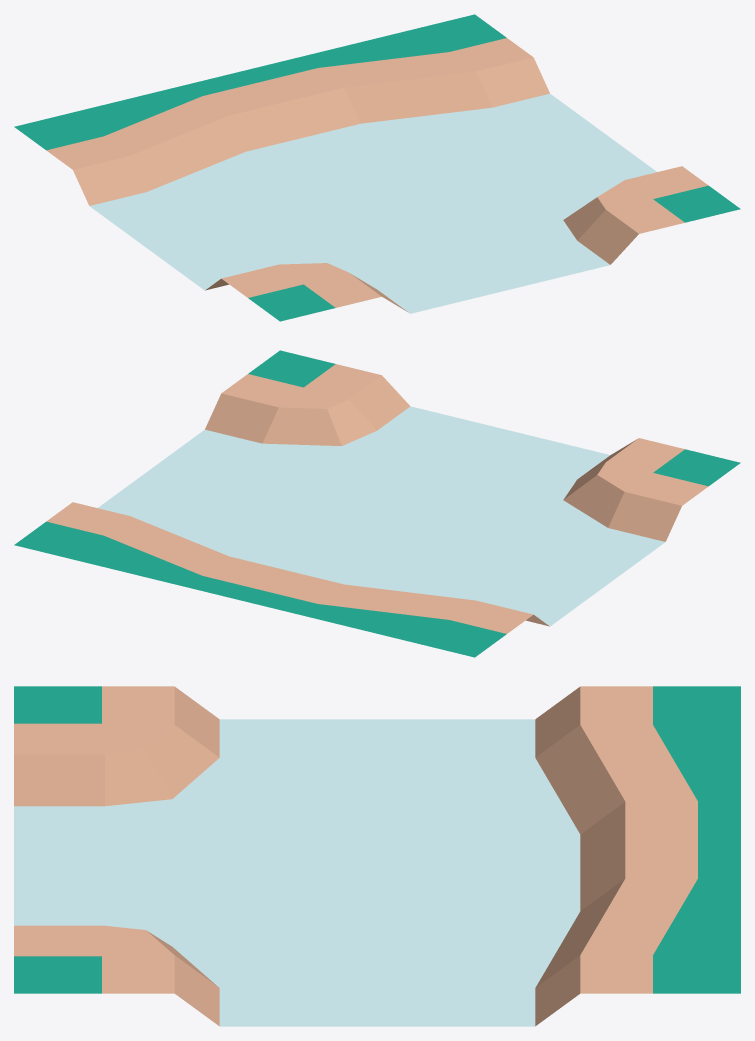
The model's file is ground_riverSplit.glb.
The picture shows the model from 3 angles, top to bottom: view 1: azimuth 30°, elevation 25°; view 2: azimuth 150°, elevation 25°; view 3: azimuth 270°, elevation 25°; orthographic projection. The views are drawn at different scales.
Visible parts, largest first — view 1: ground_riverSplit; view 2: ground_riverSplit; view 3: ground_riverSplit.
Part boxes in pixels (box(x1,y1,x2,y2)): ground_riverSplit: box(14, 14, 740, 321); ground_riverSplit: box(14, 350, 740, 657); ground_riverSplit: box(14, 686, 740, 1026).
Size of the model in its own units: 1.16 by 0.0581 by 1.16.
